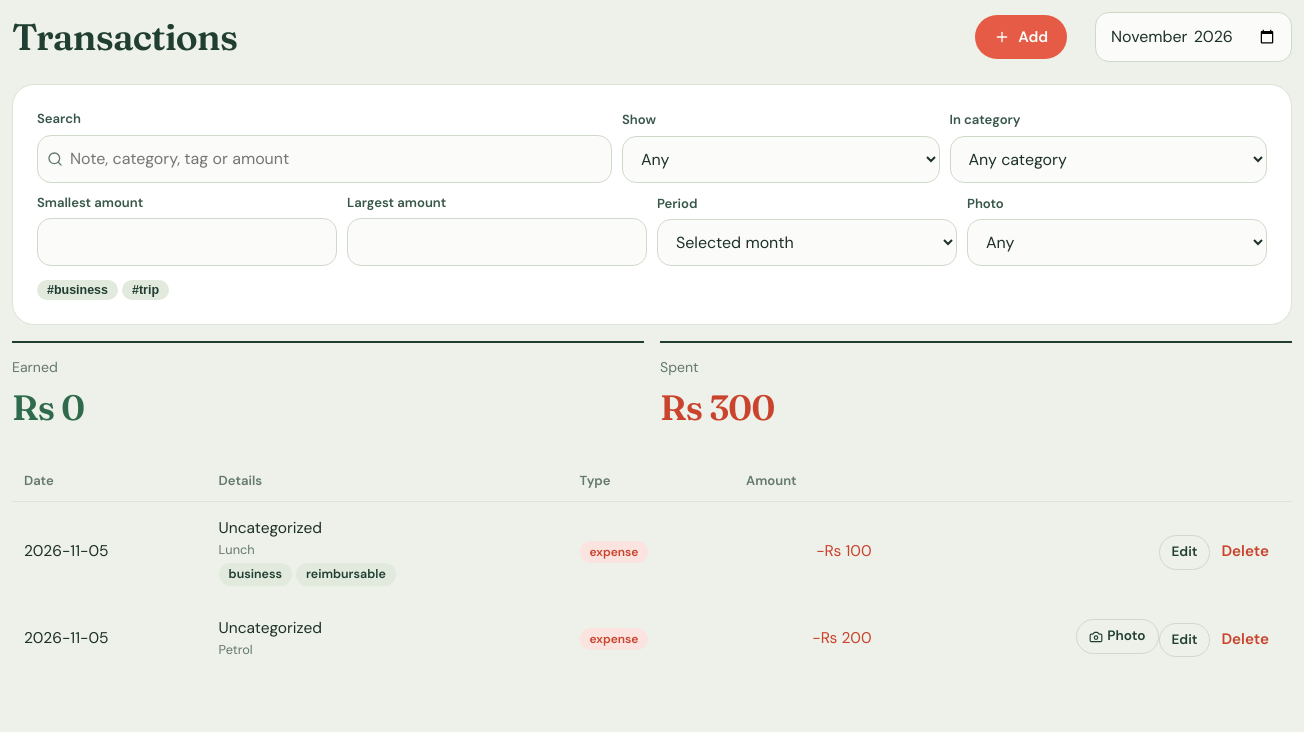
Test: Transactions search and filters › searches the selected month by text
This screenshot has width=1304, height=732.
Expected: the text "Lunch" is shown, [219,541,255,558]
Type "petrol" into the search field labelled "Search" at coordinates (324, 159), box [37,135,612,183]
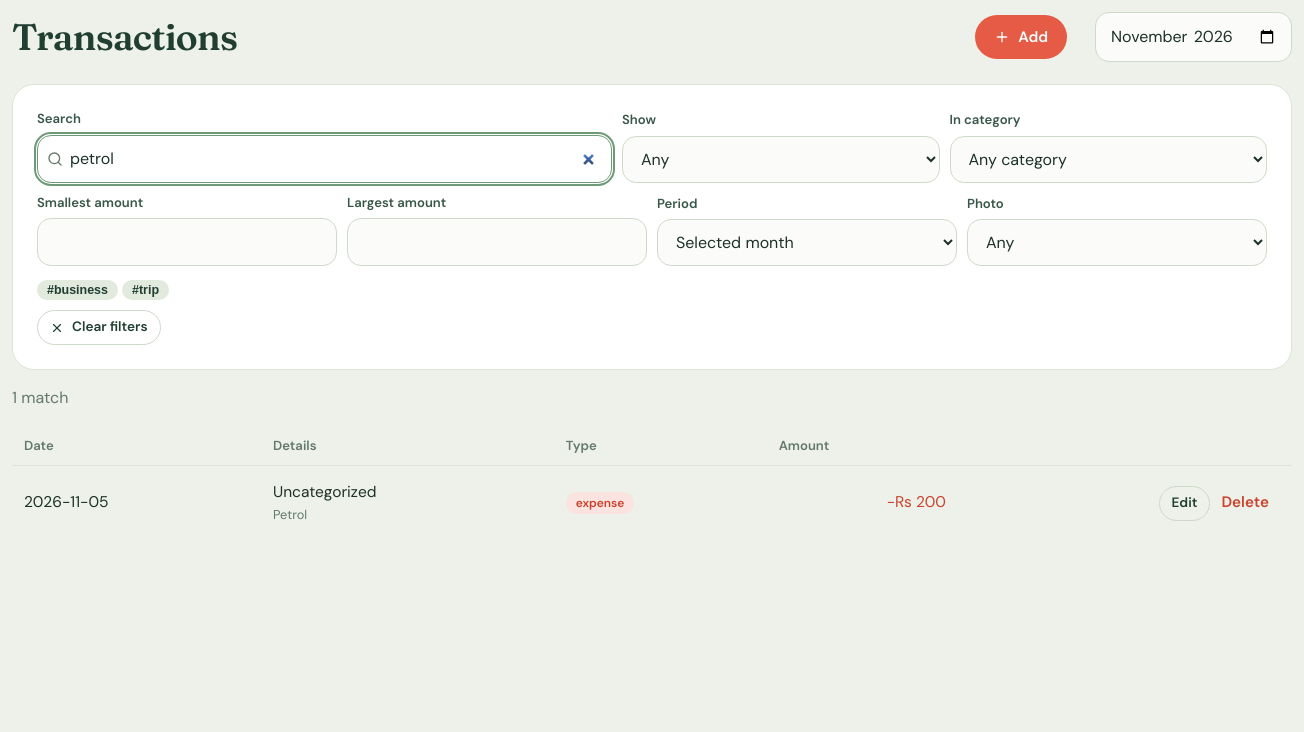
Now the text "1 match" is shown, box [12,387,68,408]
Now the text "Earned" is gone
